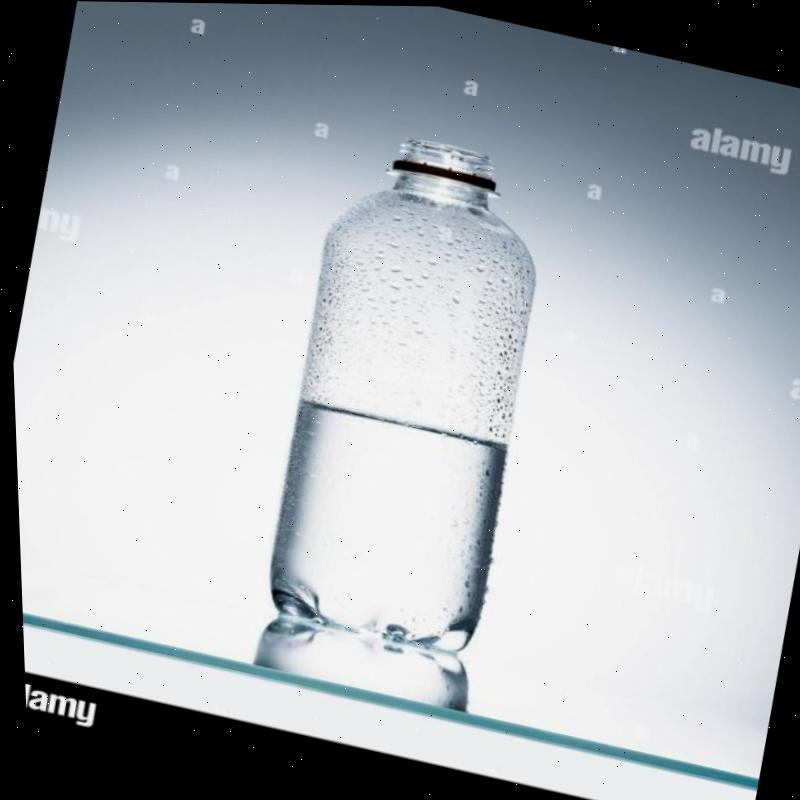botella: (230, 117, 598, 663)
